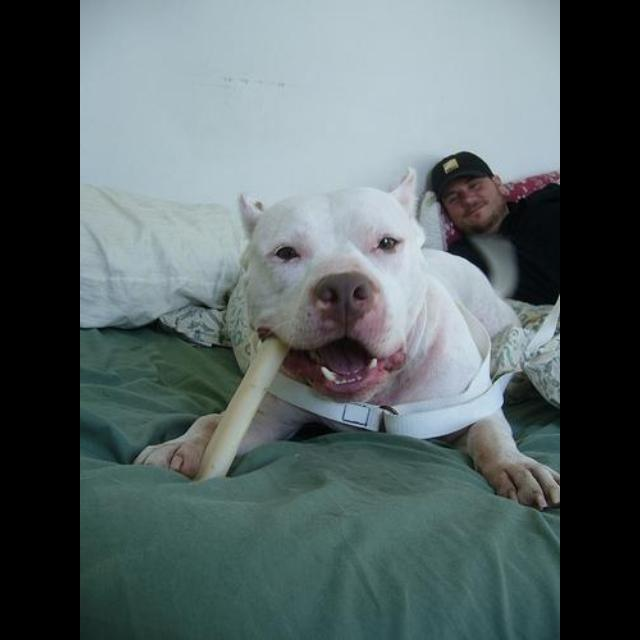amstaff: (134, 167, 560, 512)
face: (429, 153, 512, 235)
person: (430, 152, 561, 310)
